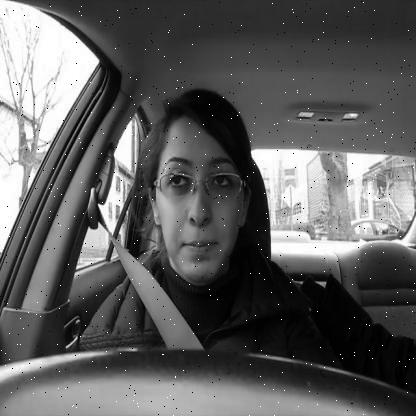seatbelt: (83, 85, 261, 351)
